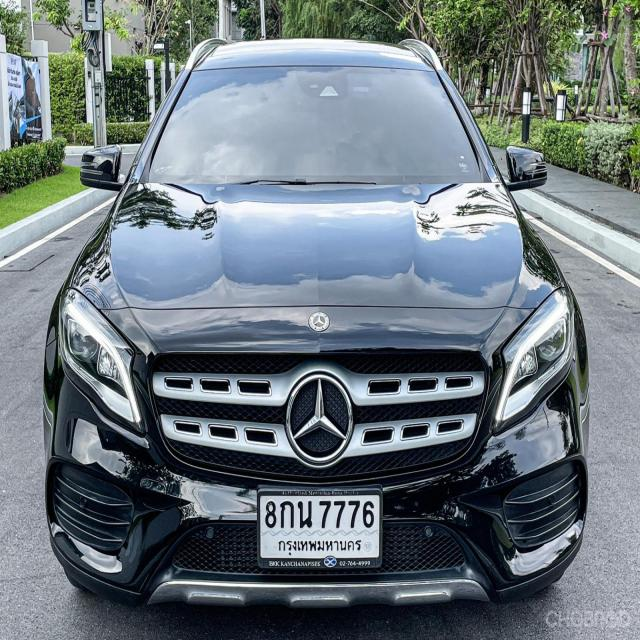license_plate: (254, 484, 385, 570)
